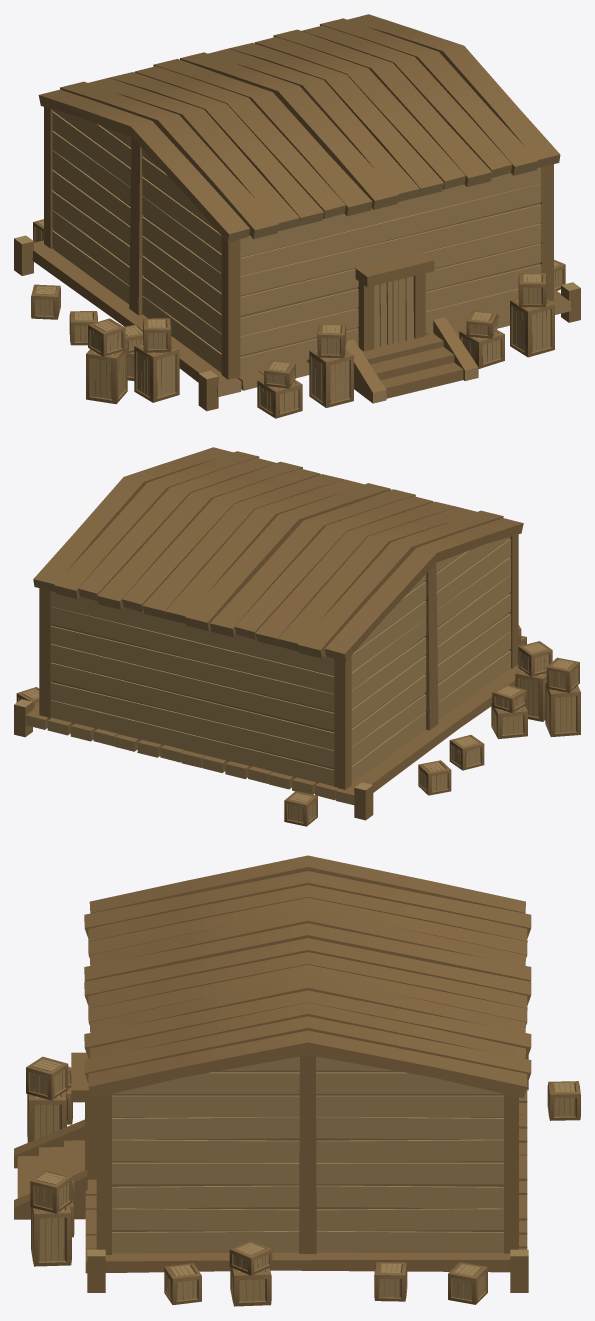
Rendered from quaternius-ultimate-fantasy-rts-storage-firstage-leve-3.glb.
3 views of the same model, one above another, from view 1: azimuth 30°, elevation 25°; view 2: azimuth 150°, elevation 25°; view 3: azimuth 270°, elevation 25° (orthographic). The views are drawn at different scales.
Visible parts, largest first — view 1: Storage_FirstAge_Leve3; view 2: Storage_FirstAge_Leve3; view 3: Storage_FirstAge_Leve3.
Part boxes in pixels (x1=…): Storage_FirstAge_Leve3: x1=14, y1=14, x2=580, y2=418; Storage_FirstAge_Leve3: x1=14, y1=447, x2=580, y2=826; Storage_FirstAge_Leve3: x1=14, y1=855, x2=580, y2=1306.
Bounding box in the file's own units: 1.79 × 0.7612 × 1.62.
